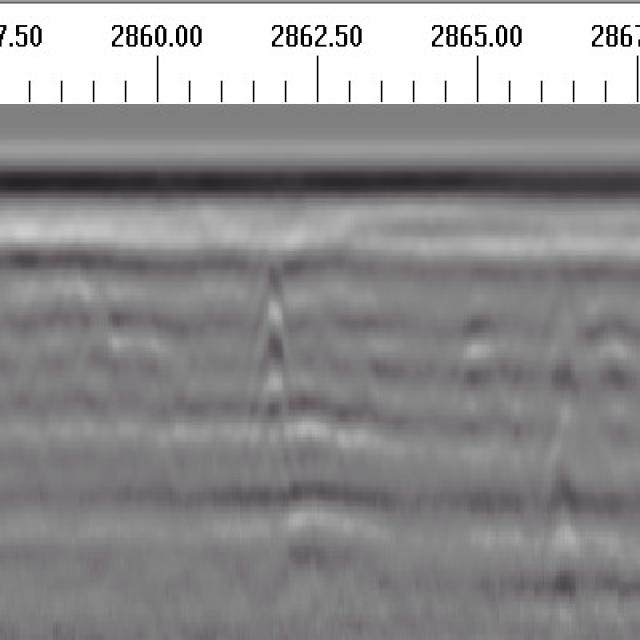crack: (243, 225, 294, 530)
